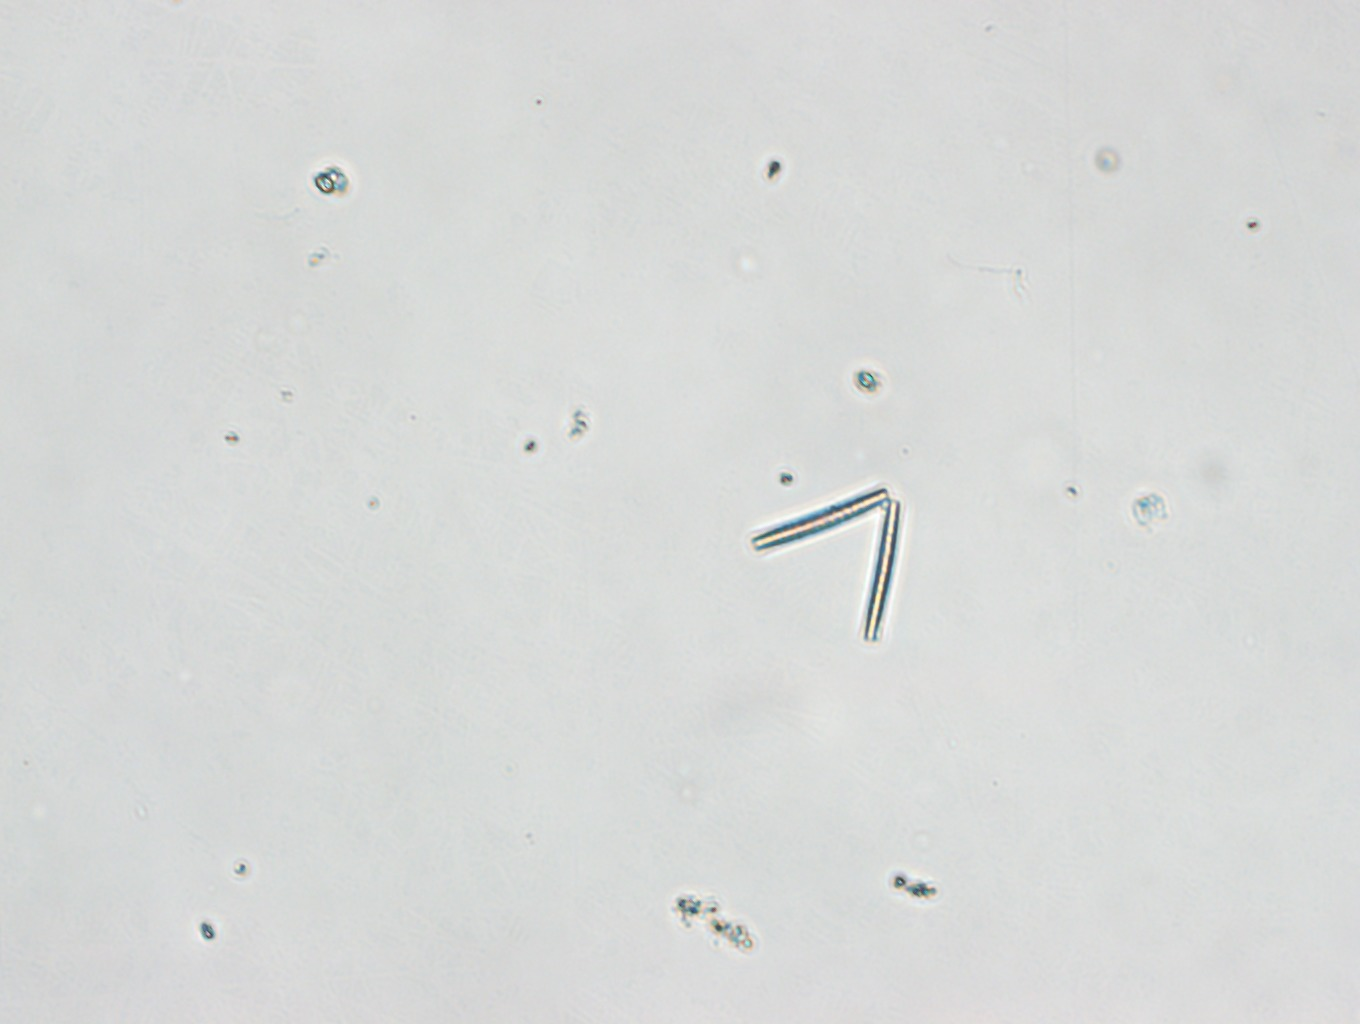thalassionema frauenfeldii: (750, 478, 905, 653)
